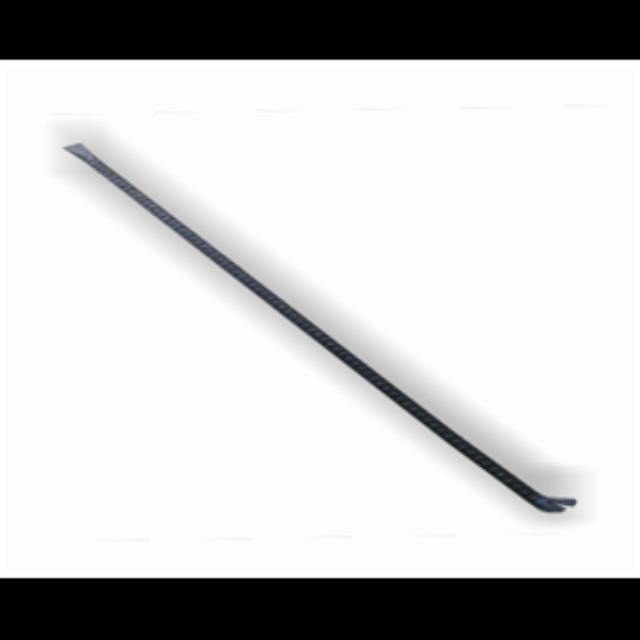crow bar: (56, 127, 590, 526)
